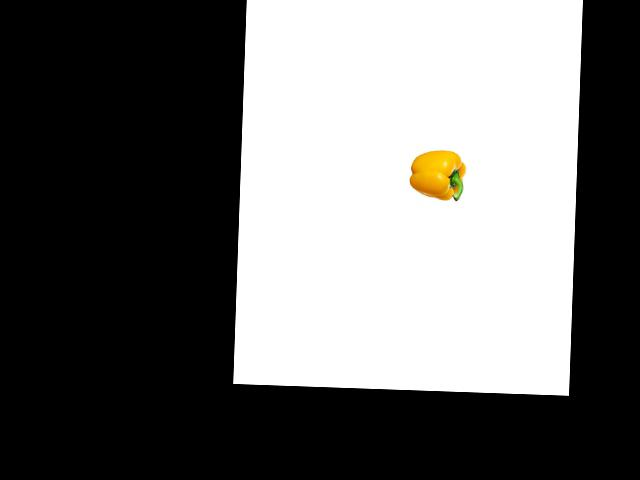bell_pepper: (406, 144, 471, 207)
